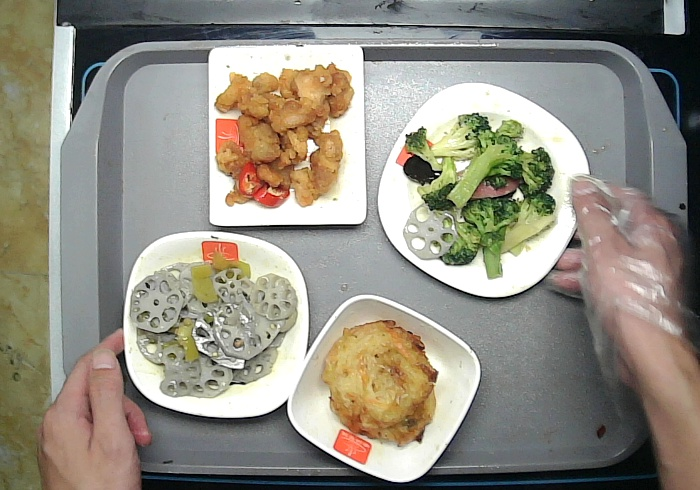SHKJ-Bai_Se_Cai_Die: (122, 229, 314, 418)
SHKJ-Bai_Se_Si_Fang_Cai_Die: (375, 80, 595, 300)
SHKJ-Bai_Se_Xiao_Fang_Die: (286, 292, 482, 482)
SHKJ-Si_Fang_Min: (205, 41, 370, 227)
